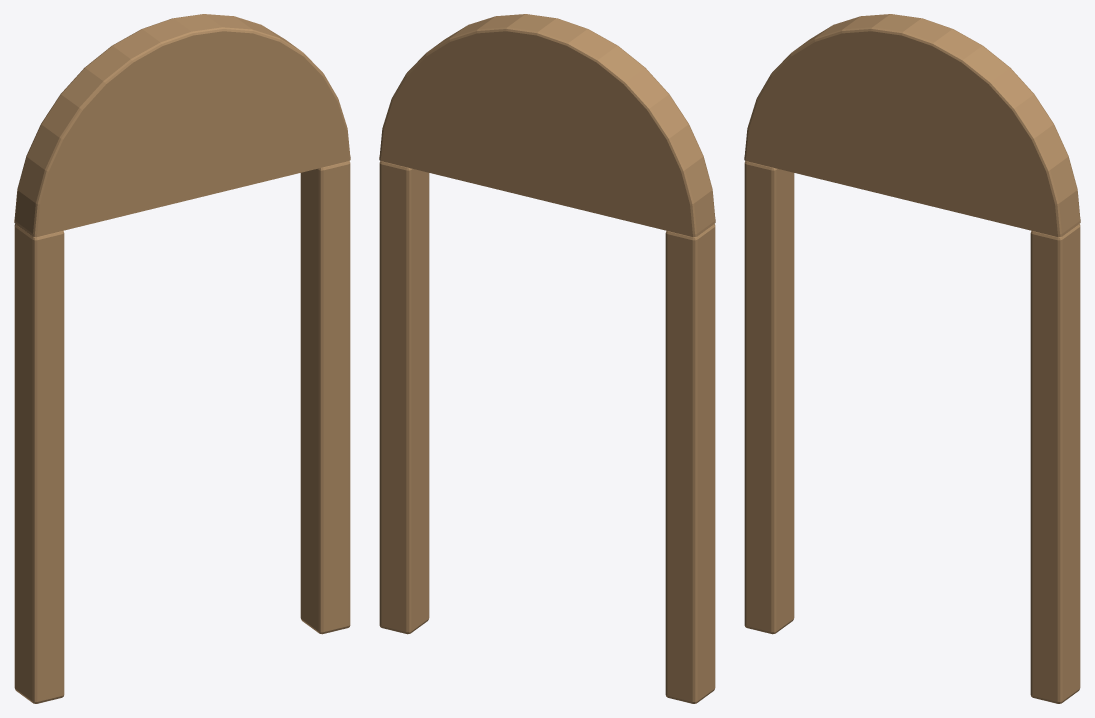
File: doors__entries___window_views_asset_sheet_25_iter_1.glb
3 views of the same model, side by side, from view 1: azimuth 30°, elevation 25°; view 2: azimuth 150°, elevation 25°; view 3: azimuth 330°, elevation 25° (orthographic).
Visible parts, largest first — view 1: Cube; view 2: Cube; view 3: Cube.
Part boxes in pixels (x1=…): Cube: x1=14, y1=14, x2=350, y2=703; Cube: x1=379, y1=14, x2=715, y2=703; Cube: x1=744, y1=14, x2=1080, y2=703.
Size of the model in its own units: 1.21 by 2.31 by 0.14.
